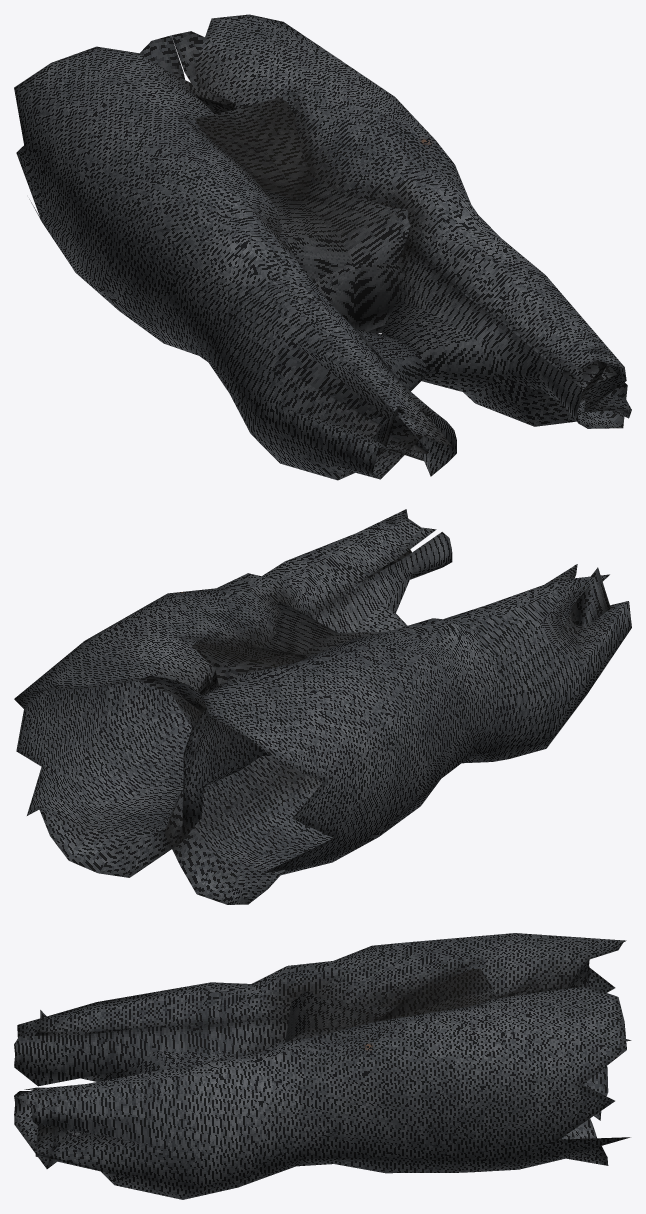
The model's file is jambieres_fer.glb.
The picture shows the model from 3 angles, top to bottom: view 1: azimuth 30°, elevation 25°; view 2: azimuth 150°, elevation 25°; view 3: azimuth 270°, elevation 25°; orthographic projection. The views are drawn at different scales.
Parts seen in each view (by area): view 1: jambieres_fer; view 2: jambieres_fer; view 3: jambieres_fer.
Boxes of the visible parts, x1=… form: jambieres_fer: x1=14, y1=14, x2=631, y2=480; jambieres_fer: x1=14, y1=509, x2=631, y2=904; jambieres_fer: x1=14, y1=933, x2=631, y2=1199.
Bounding box in the file's own units: 0.4195 × 0.2762 × 0.8328.
Materials: 1 (1 with a texture image).
